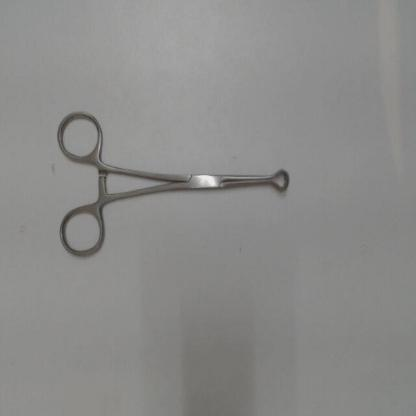Babcock Tissue Forceps: (54, 104, 292, 262)
